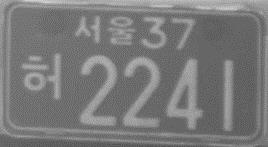1: (219, 57, 239, 135)
2: (77, 52, 119, 128), (120, 55, 162, 128)
3: (141, 15, 169, 50)
4: (164, 56, 206, 131)
7: (170, 16, 195, 50)
서울_O: (73, 13, 137, 47)
허: (20, 52, 64, 100)
